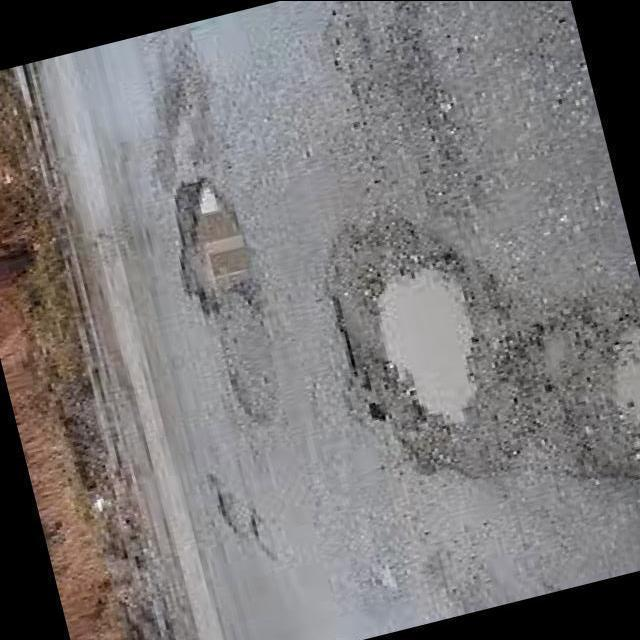pothole: (332, 220, 640, 473), (176, 179, 278, 422), (210, 475, 261, 544), (260, 545, 278, 559), (295, 515, 311, 528), (284, 449, 296, 466)
